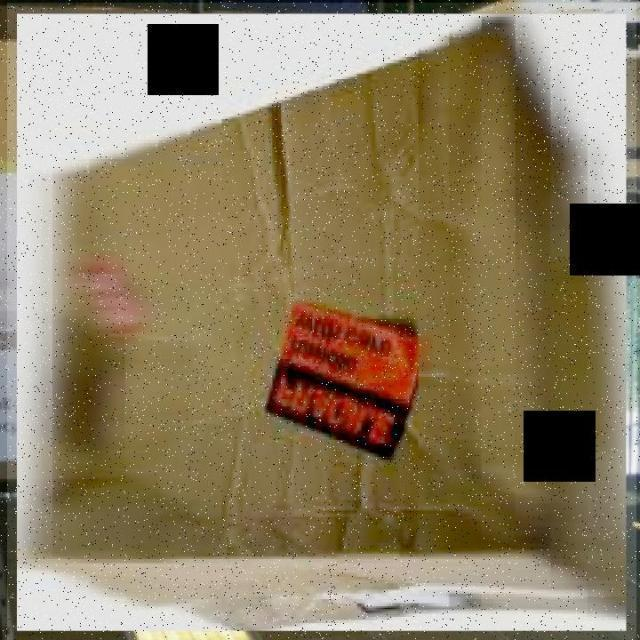box: (7, 3, 636, 640)
